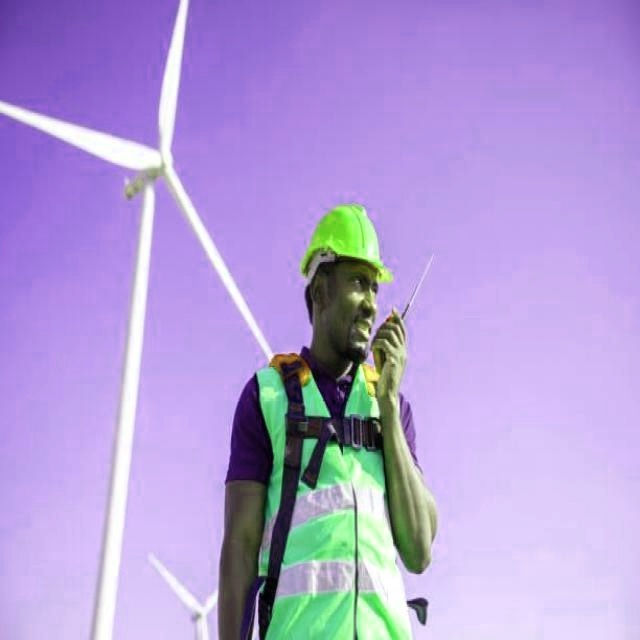safety belt: (246, 337, 434, 618)
